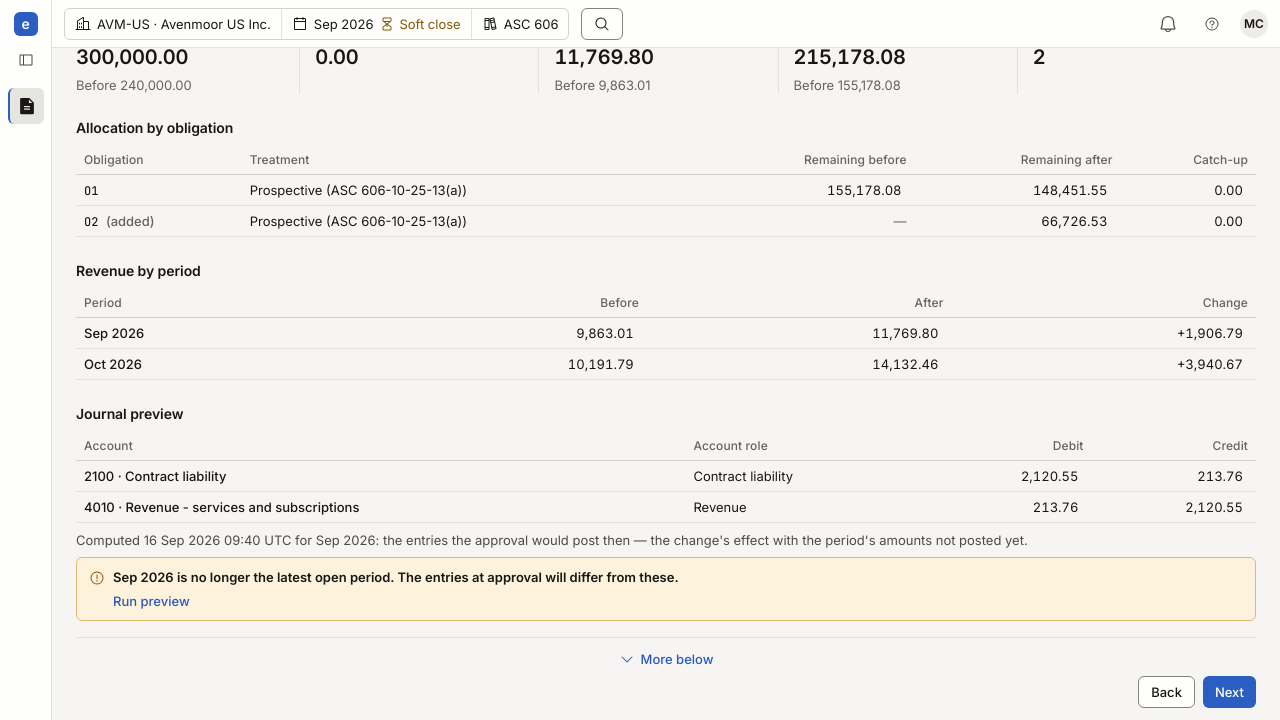
Scenario: SF-07 the wizard of a draft › the journal preview warns once its period is no longer the latest open one, and Run preview computes it again
(page scrolled)
Expected: the heading "Sep 2026 is no longer the latest open period. The entries at approval will differ from these." is shown, [113,569,679,585]
Expected: the text with test id "SF-07-journal-computed" shows "Computed 16 Sep 2026 09:40 UTC for Sep 2026: the entries the approval would post then — the change's effect with the period's amounts not posted yet.", [76,532,1028,548]
Step 1. Click the button "Run preview" → (151, 601), box [113,592,190,610]
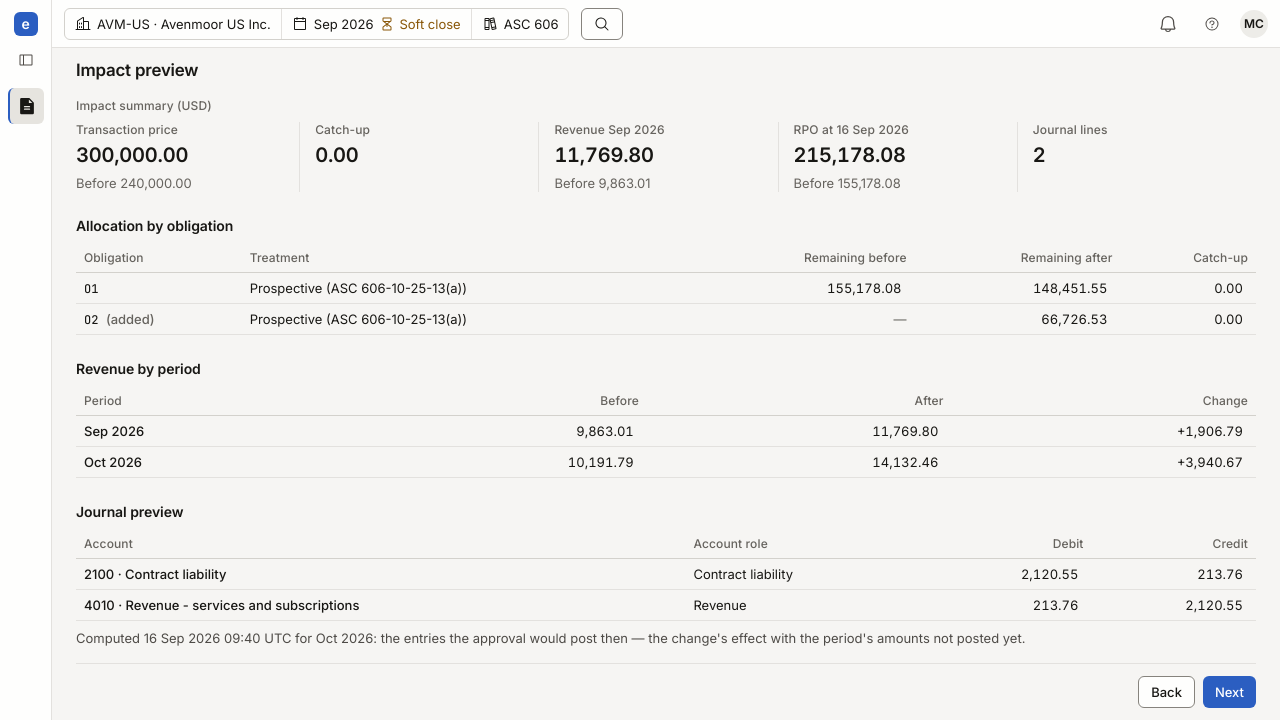
Expected: the element with test id "SF-07-banner-period-moved" is gone
